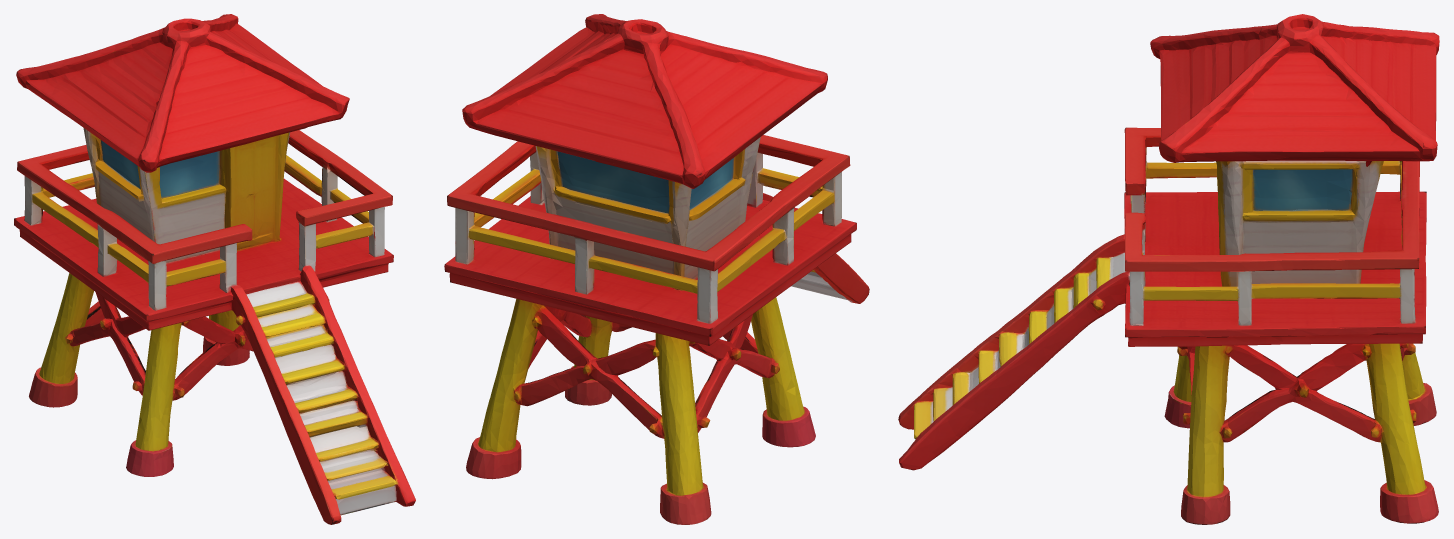
File: lifeguard_tower.glb
The picture shows the model from 3 angles, left to right: view 1: azimuth 30°, elevation 25°; view 2: azimuth 150°, elevation 25°; view 3: azimuth 270°, elevation 25°; orthographic projection. The views are drawn at different scales.
Visible parts, largest first — view 1: geometry_0; view 2: geometry_0; view 3: geometry_0.
Part boxes in pixels (x1,y1,x2,y2): geometry_0: (14,14,415,524); geometry_0: (444,14,869,524); geometry_0: (898,14,1439,524).
Bounding box in the file's own units: 0.602 × 0.8975 × 0.9976.
Materials: 1 (1 with a texture image).
